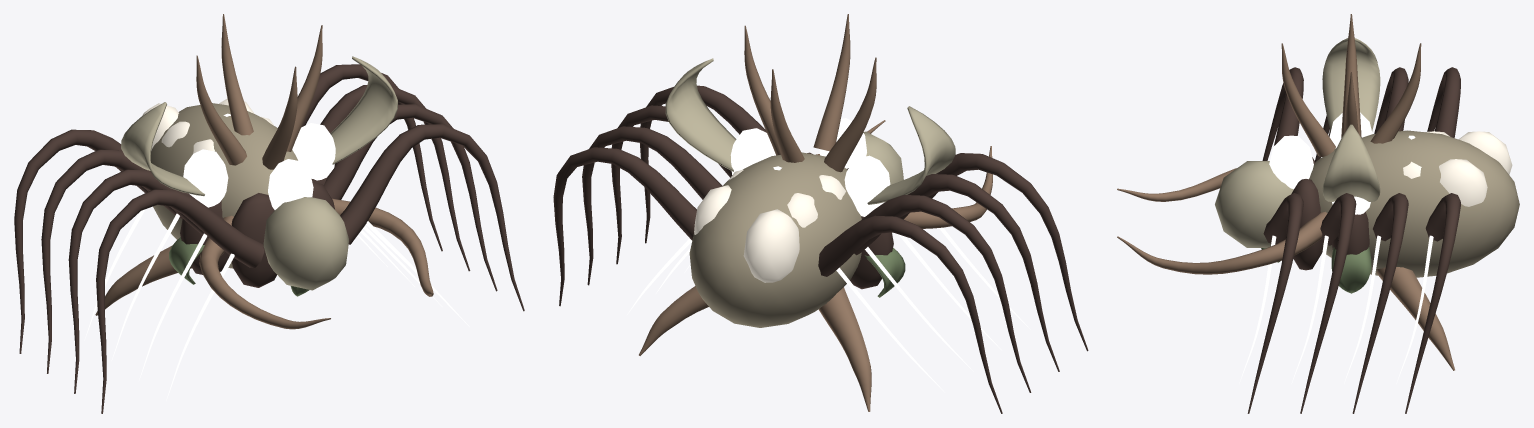
The model's file is spore_widow.glb.
The picture shows the model from 3 angles, left to right: view 1: azimuth 30°, elevation 25°; view 2: azimuth 150°, elevation 25°; view 3: azimuth 270°, elevation 25°; orthographic projection. The views are drawn at different scales.
Parts seen in each view (by area): view 1: Egg sac, Mobility frill, EnemyCore, Crown growth, Enlarged spore sac, Articulated root leg.001, Articulated root leg, Extended strike tendril, Layered bark plate, Articulated root leg.007, Articulated root leg.003, Articulated root leg.002 (+4 smaller); view 2: EnemyCore, Mobility frill, Egg sac, Crown growth, Articulated root leg.007, Articulated root leg.006, Enlarged spore sac, Articulated root leg.004, Articulated root leg.005, Articulated root leg.003, Articulated root leg.001, Articulated root leg (+4 smaller); view 3: EnemyCore, Egg sac, Mobility frill, Crown growth, Extended strike tendril, Articulated root leg, Articulated root leg.002, Articulated root leg.004, Articulated root leg.006, Enlarged spore sac, Layered bark plate, Articulated root leg.007 (+3 smaller).
Boxes of the visible parts, x1,y1,x2,y2 form: Egg sac: [84, 98, 469, 400]; Mobility frill: [95, 56, 397, 315]; EnemyCore: [150, 103, 297, 268]; Crown growth: [196, 14, 322, 169]; Enlarged spore sac: [183, 113, 335, 209]; Articulated root leg.001: [96, 189, 264, 413]; Articulated root leg: [340, 124, 524, 311]; Extended strike tendril: [199, 198, 433, 329]; Layered bark plate: [180, 177, 334, 287]; Articulated root leg.007: [14, 129, 147, 353]; Articulated root leg.003: [68, 169, 223, 393]; Articulated root leg.002: [323, 104, 497, 291]; EnemyCore: [689, 152, 861, 327]; Mobility frill: [639, 58, 955, 411]; Egg sac: [627, 131, 1030, 392]; Crown growth: [744, 14, 876, 172]; Articulated root leg.007: [818, 215, 1002, 413]; Articulated root leg.006: [553, 147, 696, 306]; Enlarged spore sac: [730, 118, 890, 216]; Articulated root leg.004: [582, 126, 722, 285]; Articulated root leg.005: [854, 195, 1031, 392]; Articulated root leg.003: [900, 174, 1059, 371]; Articulated root leg.001: [928, 153, 1088, 351]; Articulated root leg: [640, 85, 766, 243]; EnemyCore: [1309, 130, 1519, 277]; Egg sac: [1215, 131, 1512, 383]; Mobility frill: [1322, 38, 1454, 370]; Crown growth: [1281, 14, 1421, 157]; Extended strike tendril: [1117, 168, 1327, 274]; Articulated root leg: [1247, 193, 1303, 413]; Articulated root leg.002: [1300, 193, 1356, 413]; Articulated root leg.004: [1352, 193, 1408, 413]; Articulated root leg.006: [1405, 193, 1460, 413]; Enlarged spore sac: [1269, 112, 1415, 214]; Layered bark plate: [1291, 157, 1369, 270]; Articulated root leg.007: [1427, 67, 1460, 137].
Bounding box in the file's own units: 2.51 × 1.63 × 2.15.
